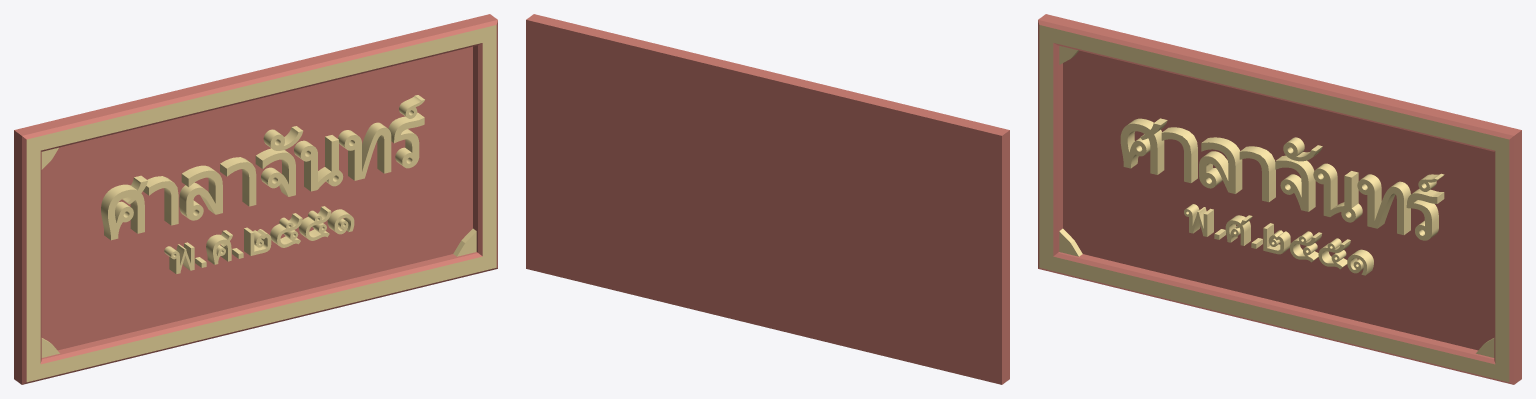
File: Sign.fbx
3 views of the same model, side by side, from view 1: azimuth 30°, elevation 25°; view 2: azimuth 150°, elevation 25°; view 3: azimuth 330°, elevation 25° (orthographic).
Visible parts, largest first — view 1: pCube2; view 2: pCube2; view 3: pCube2.
Boxes of the visible parts, x1,y1,x2,y2 form: pCube2: (14,14,497,384); pCube2: (526,14,1009,384); pCube2: (1038,14,1521,384).
Size of the model in its own units: 100 by 50 by 3.5.
